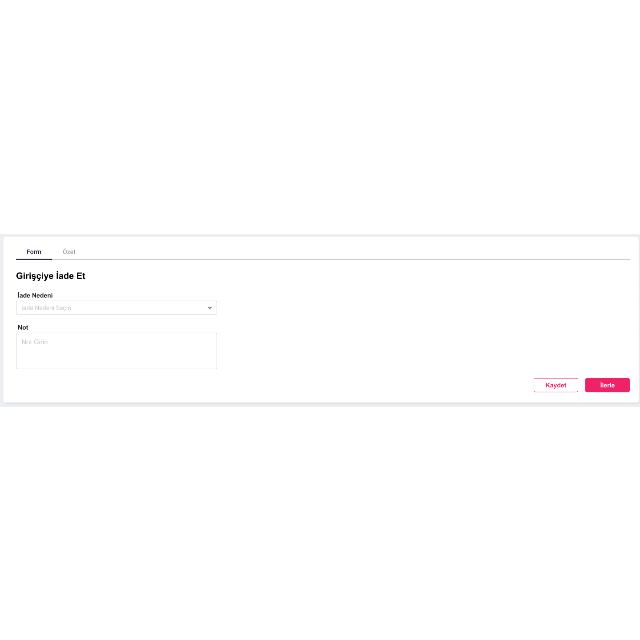QLabel: (14, 270, 86, 280), (16, 290, 54, 298), (23, 247, 43, 255), (546, 380, 566, 388), (62, 247, 76, 255), (600, 380, 614, 388), (17, 322, 29, 330)
VBtn: (534, 376, 578, 392), (586, 376, 630, 392)
VCombobox: (16, 300, 218, 314)
VTabs: (3, 235, 639, 403)
VTextarea: (16, 332, 218, 368)
